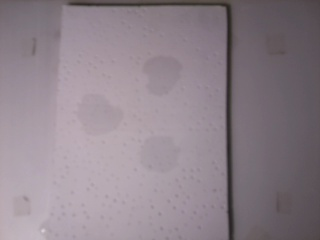Water_detected: (78, 98, 116, 137), (149, 141, 172, 171), (149, 59, 172, 85)
